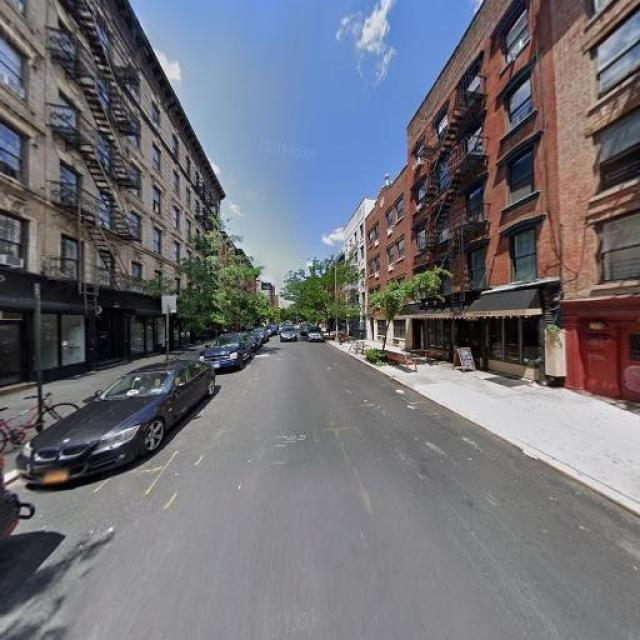Building: (1, 1, 165, 404), (412, 1, 560, 389), (567, 1, 640, 409), (369, 165, 409, 350)
